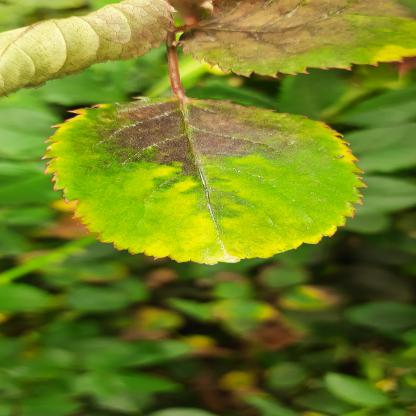downy-mildew: (46, 99, 356, 265), (191, 2, 409, 78)
